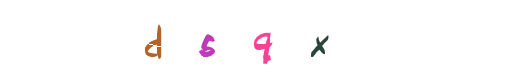5: (199, 0, 279, 80)
D: (123, 0, 203, 80)
Q: (215, 0, 295, 80)
X: (279, 0, 359, 80)
